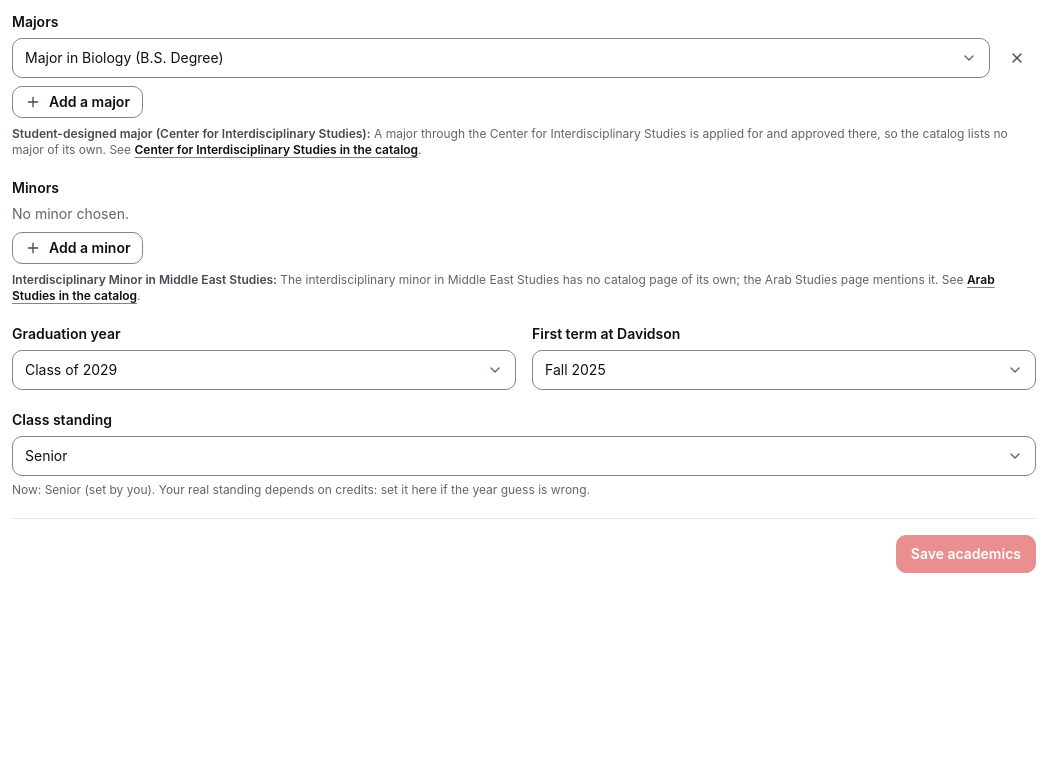
Test: AcademicsForm › clears: removing every major, Not set and From my graduation year send [] and null
Expected: the dropdown named "First term at Davidson" reads "Fall 2025", left=532, top=350, right=1036, bottom=390
Click the button named "Remove Major in Biology (B.S. Degree)" at [1017, 58], box left=998, top=39, right=1036, bottom=77
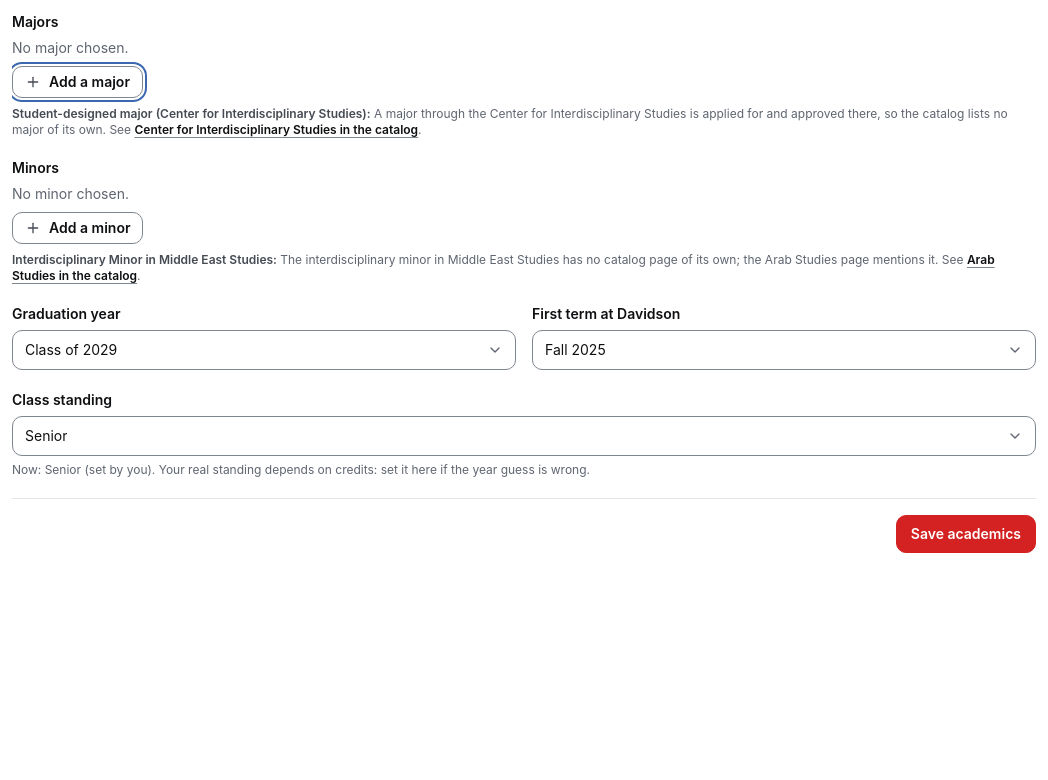
Expected: the text "No major chosen." is shown, left=12, top=39, right=128, bottom=56
Click the dropdown named "First term at Davidson" at [575, 350], box left=532, top=330, right=1036, bottom=370
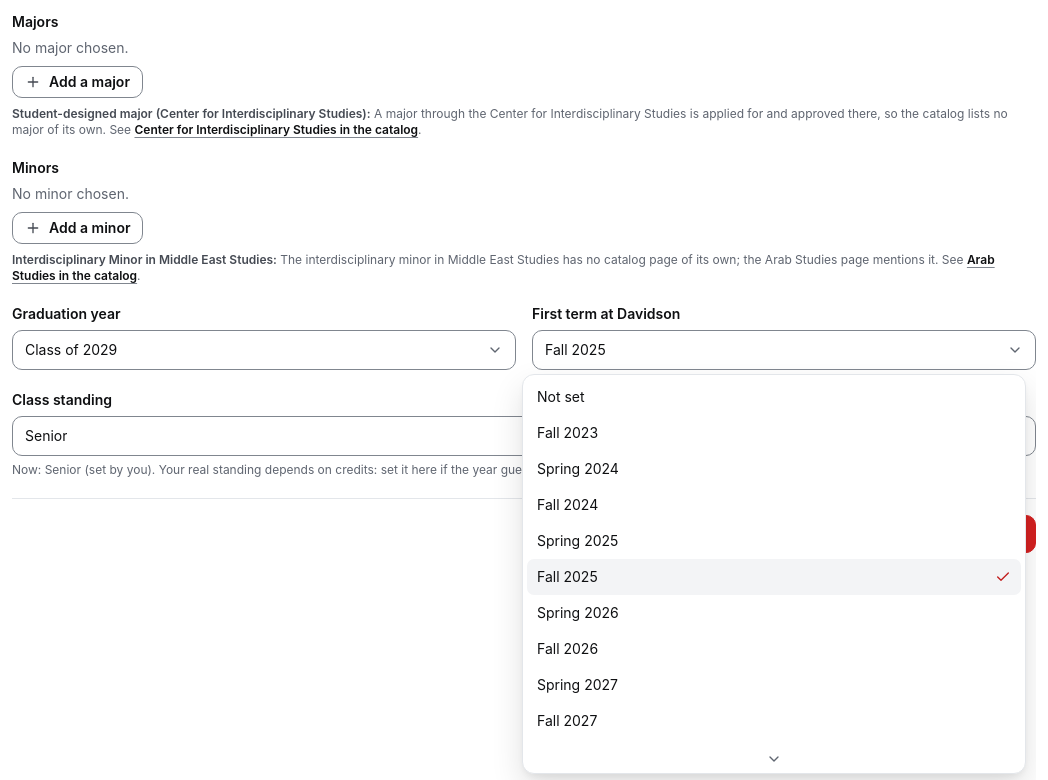
Click the option "Not set" at [561, 396], box left=537, top=388, right=585, bottom=405
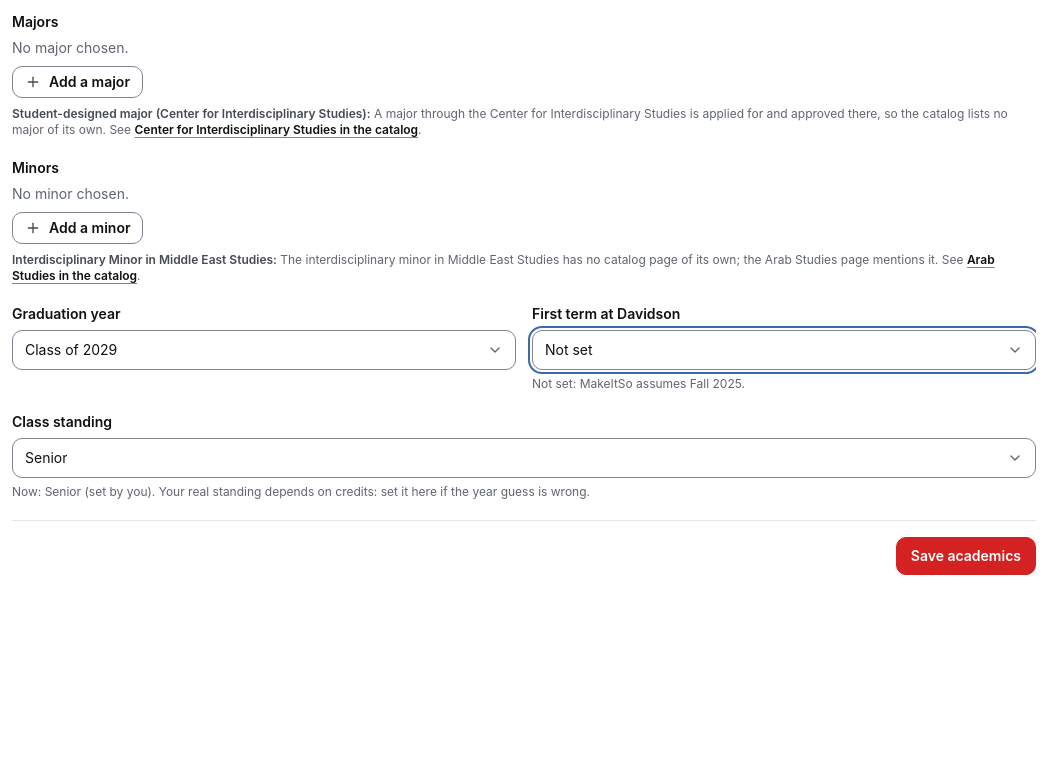
Click the dropdown named "Class standing" at [46, 458], box left=12, top=438, right=1036, bottom=478
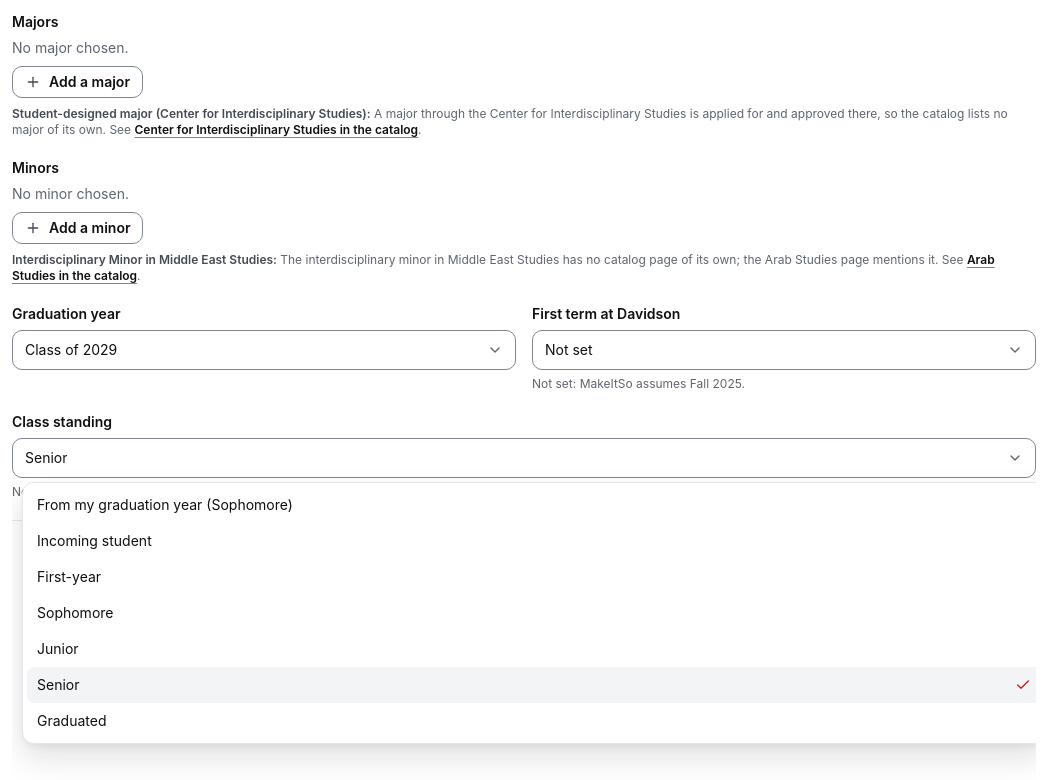
Click the option "From my graduation year (Sophomore)" at [165, 504], box left=37, top=496, right=293, bottom=513
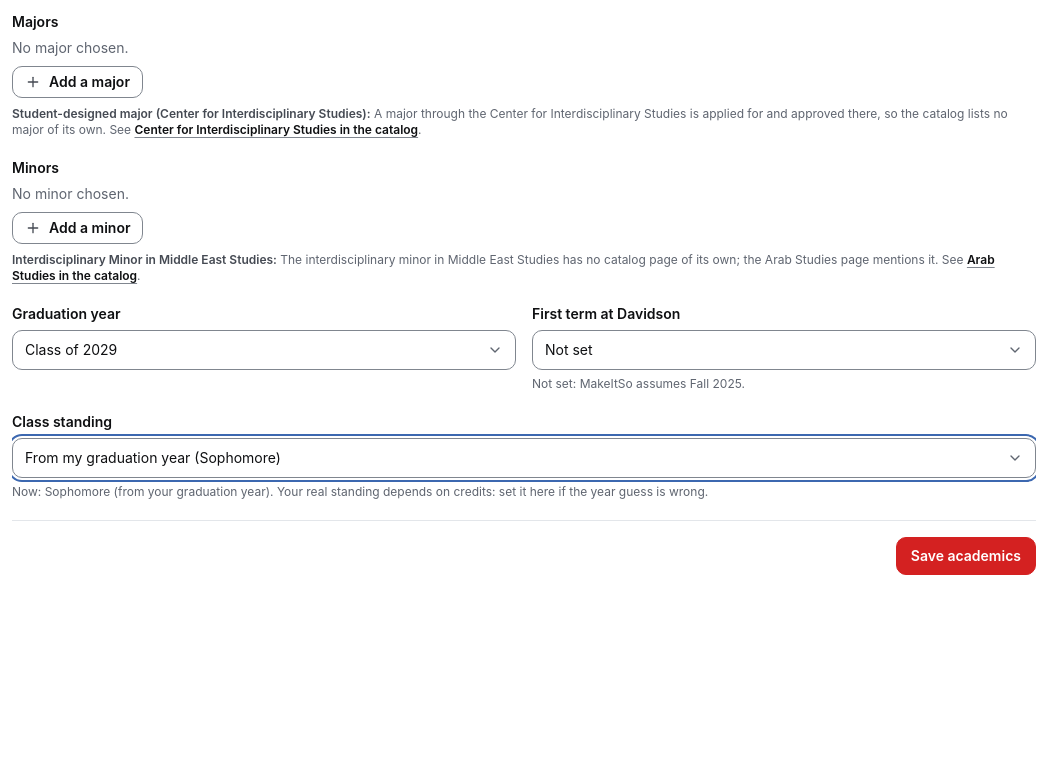
Click the button "Save academics" at [966, 556], box left=896, top=537, right=1036, bottom=575
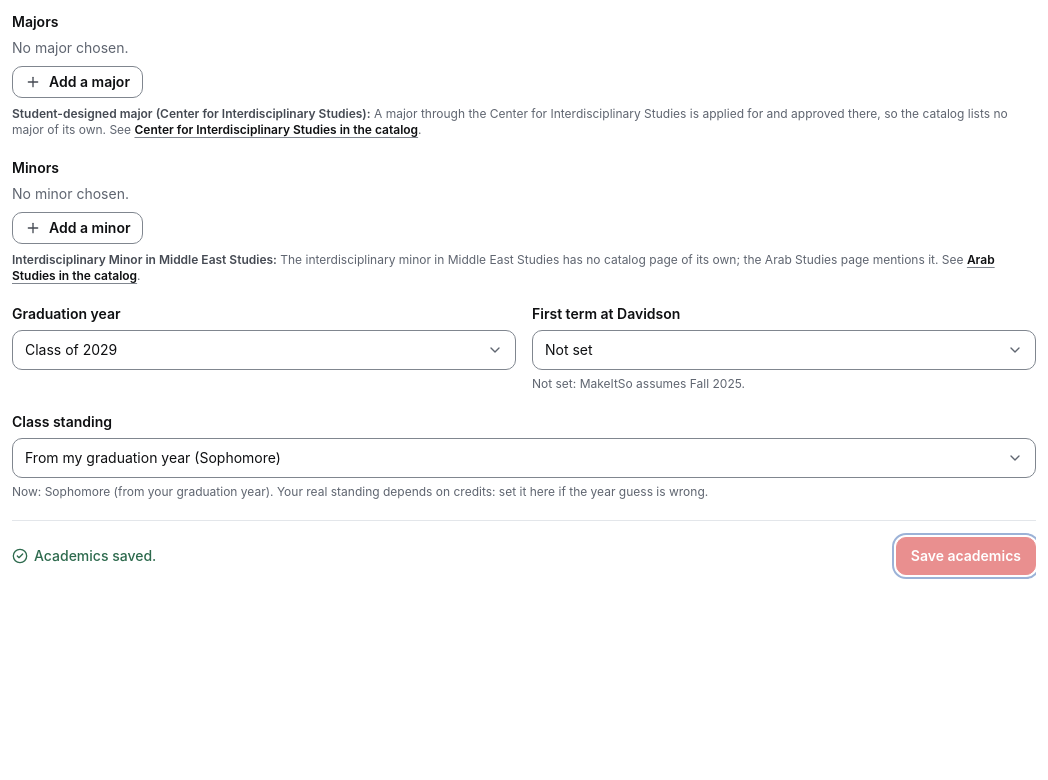
Expected: the text "Academics saved." is shown, left=12, top=546, right=156, bottom=566
